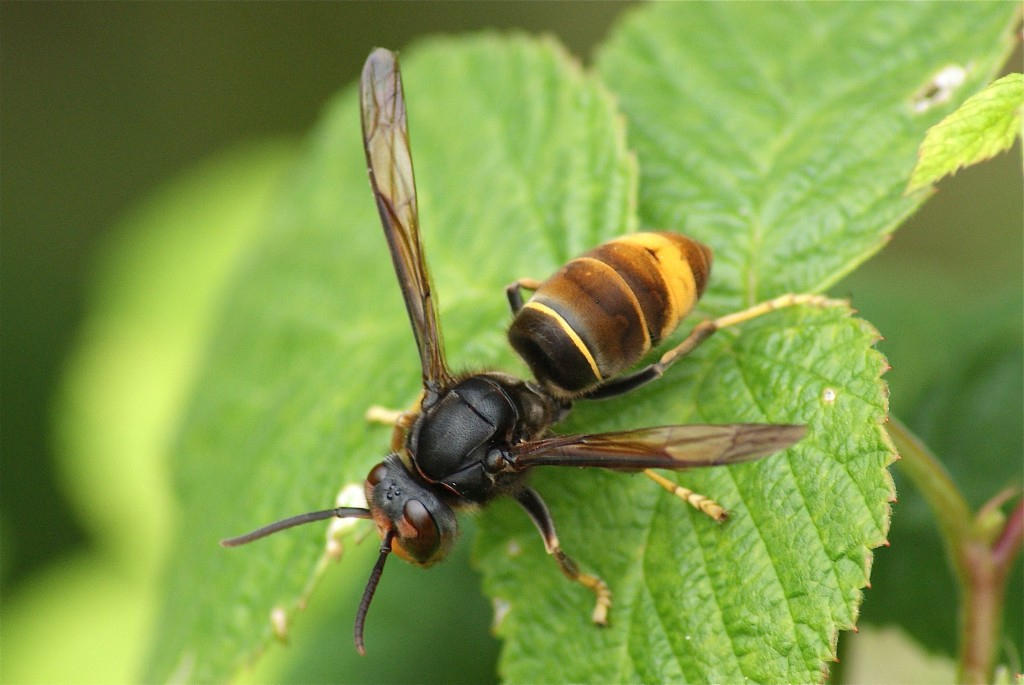hornet: (303, 164, 767, 602)
